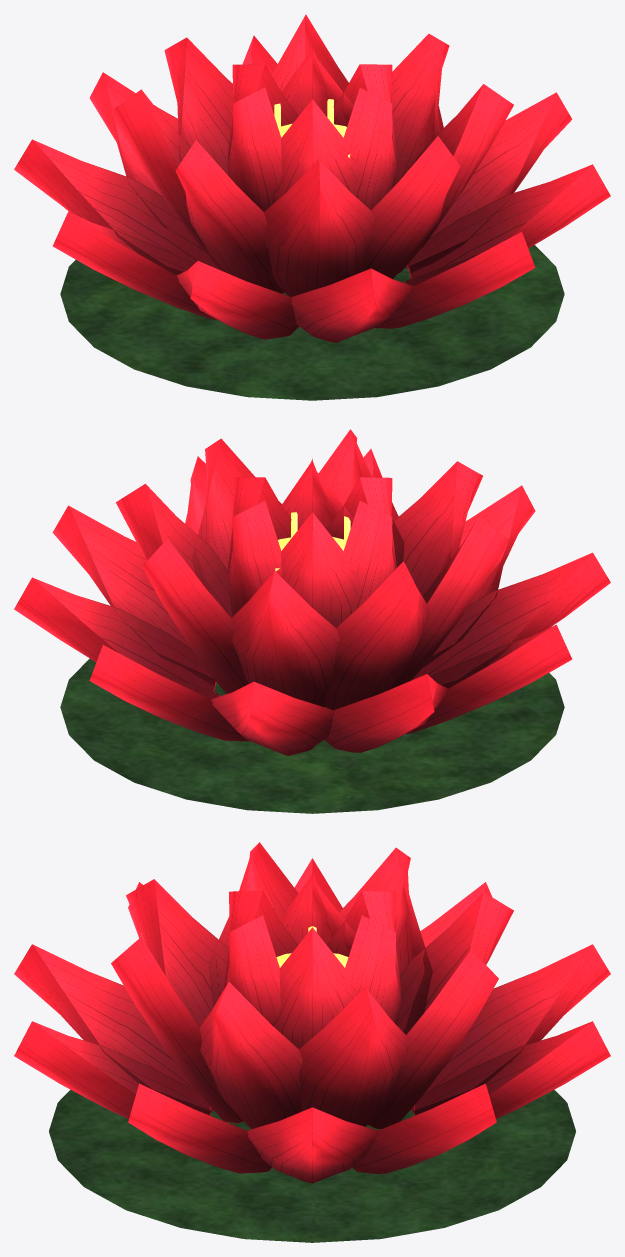
The model's file is blood_lotus.glb.
The picture shows the model from 3 angles, top to bottom: view 1: azimuth 30°, elevation 25°; view 2: azimuth 150°, elevation 25°; view 3: azimuth 270°, elevation 25°; orthographic projection. The views are drawn at different scales.
Visible parts, largest first — view 1: LotusPetals, LotusPad; view 2: LotusPetals, LotusPad; view 3: LotusPetals, LotusPad.
Part boxes in pixels (<box>): LotusPetals: <box>14,14,610,342</box>; LotusPad: <box>60,245,564,400</box>; LotusPetals: <box>14,429,610,755</box>; LotusPad: <box>60,658,564,813</box>; LotusPetals: <box>14,842,610,1183</box>; LotusPad: <box>49,1089,575,1242</box>.
Bounding box in the file's own units: 0.3094 × 0.1279 × 0.2943.
3 materials, 2 textured.
